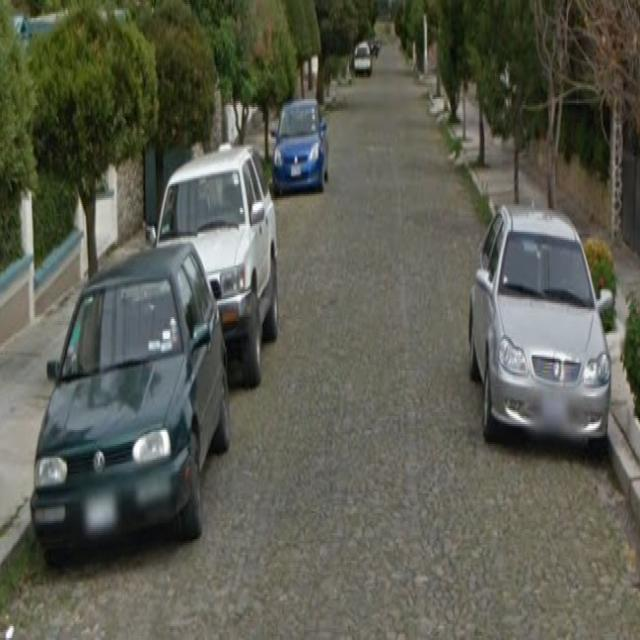cars: (35, 262, 228, 555), (474, 203, 614, 449), (164, 152, 276, 376), (278, 96, 326, 186), (352, 36, 378, 94)
